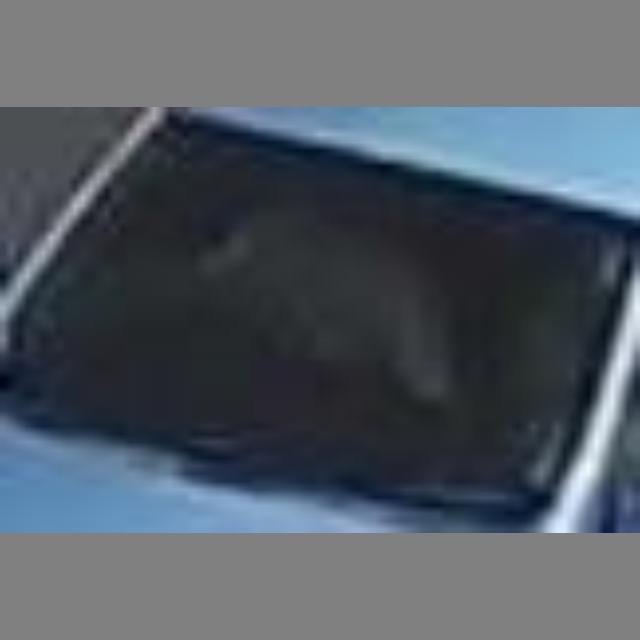tidak-pakai: (166, 154, 458, 439)
